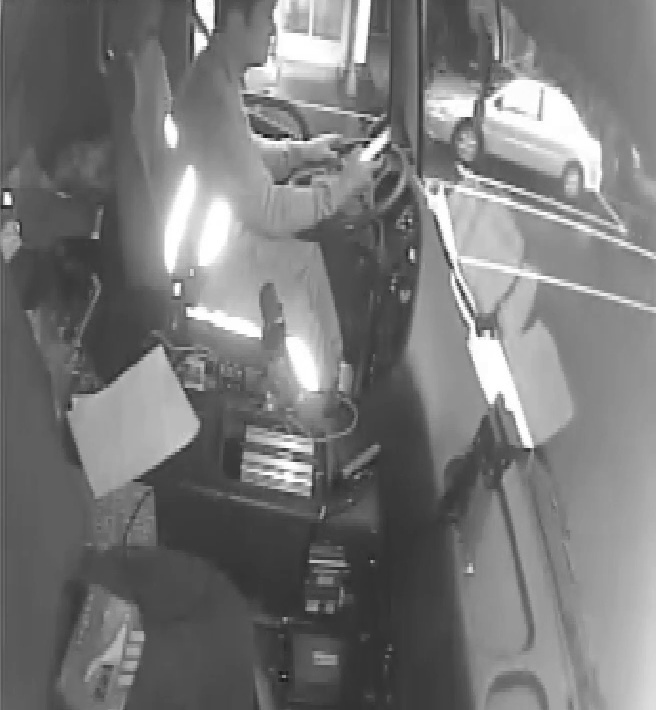cellphone: (348, 125, 393, 167)
